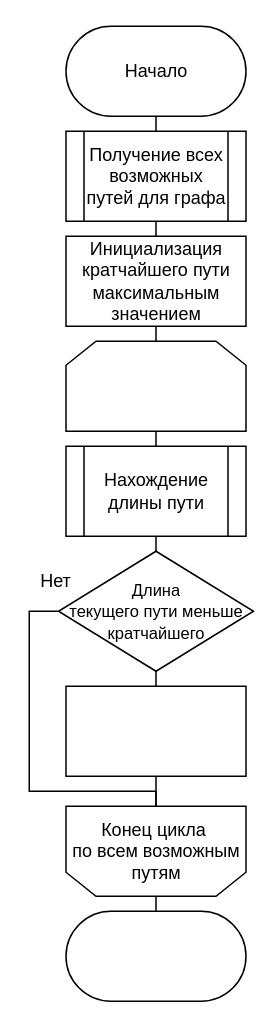
This 279x1028 diagram has some shape labels left out. Each missing label, with the centre of its shape:
Конец: point (155, 955)
Кратчайший путь = текущий путь: point (155, 730)
Начало цикла по всем возможным путям: point (155, 385)
